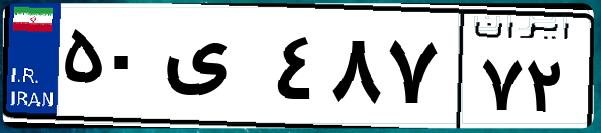0: (110, 28, 158, 98)
2: (525, 38, 570, 115)
4: (270, 28, 330, 110)
5: (57, 26, 110, 100)
7: (385, 28, 445, 110), (475, 38, 525, 113)
8: (330, 28, 385, 110)
ی: (158, 20, 270, 120)
